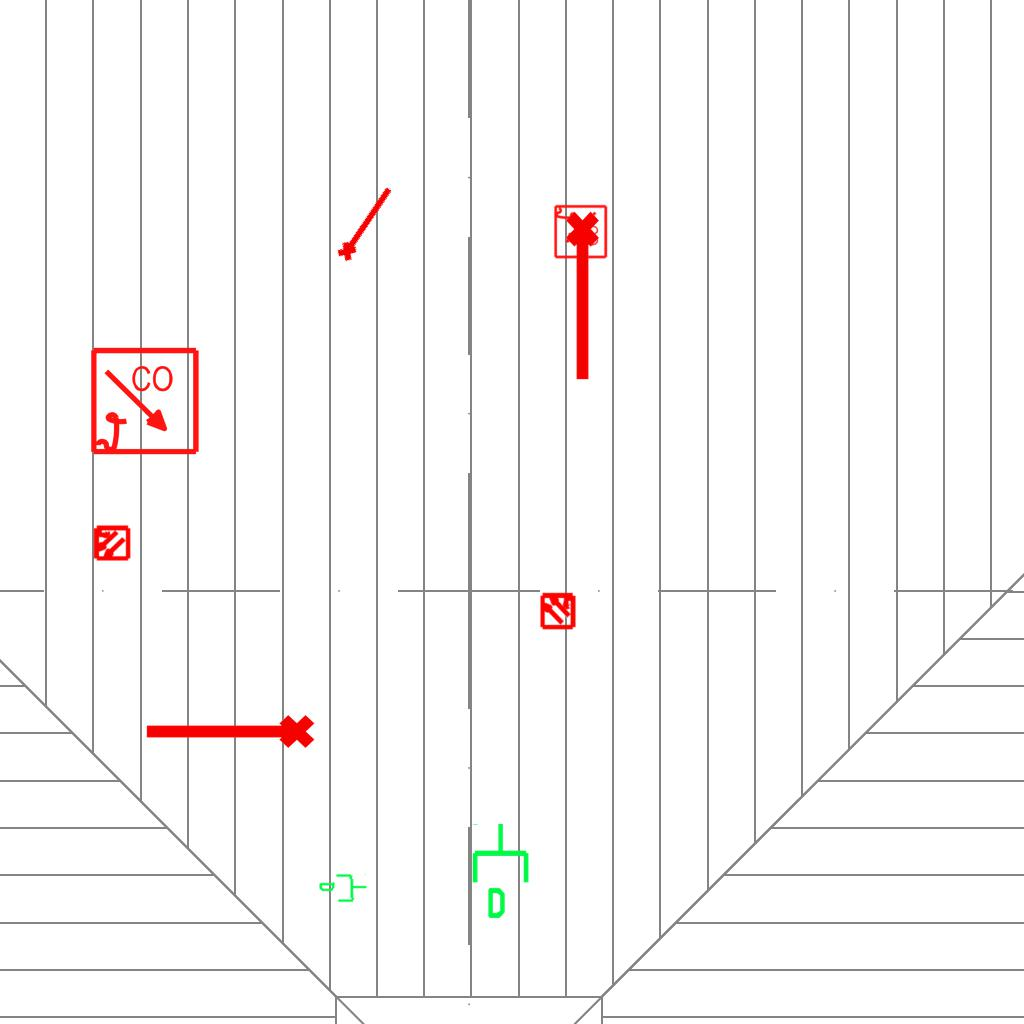ASR_Ansaugoeffnung: (141, 711, 317, 757), (562, 209, 608, 385), (330, 179, 400, 266)
Datenanschluss_einfach: (468, 821, 537, 921), (317, 870, 369, 908)
OT_Multisensormelder_(Kombination_RMO_WMD): (530, 582, 586, 638), (83, 515, 139, 571)
ROA_Rauchmelder_optisch_mit_Signalgeber_(Sockelsirene): (89, 346, 202, 459), (552, 204, 608, 260)
